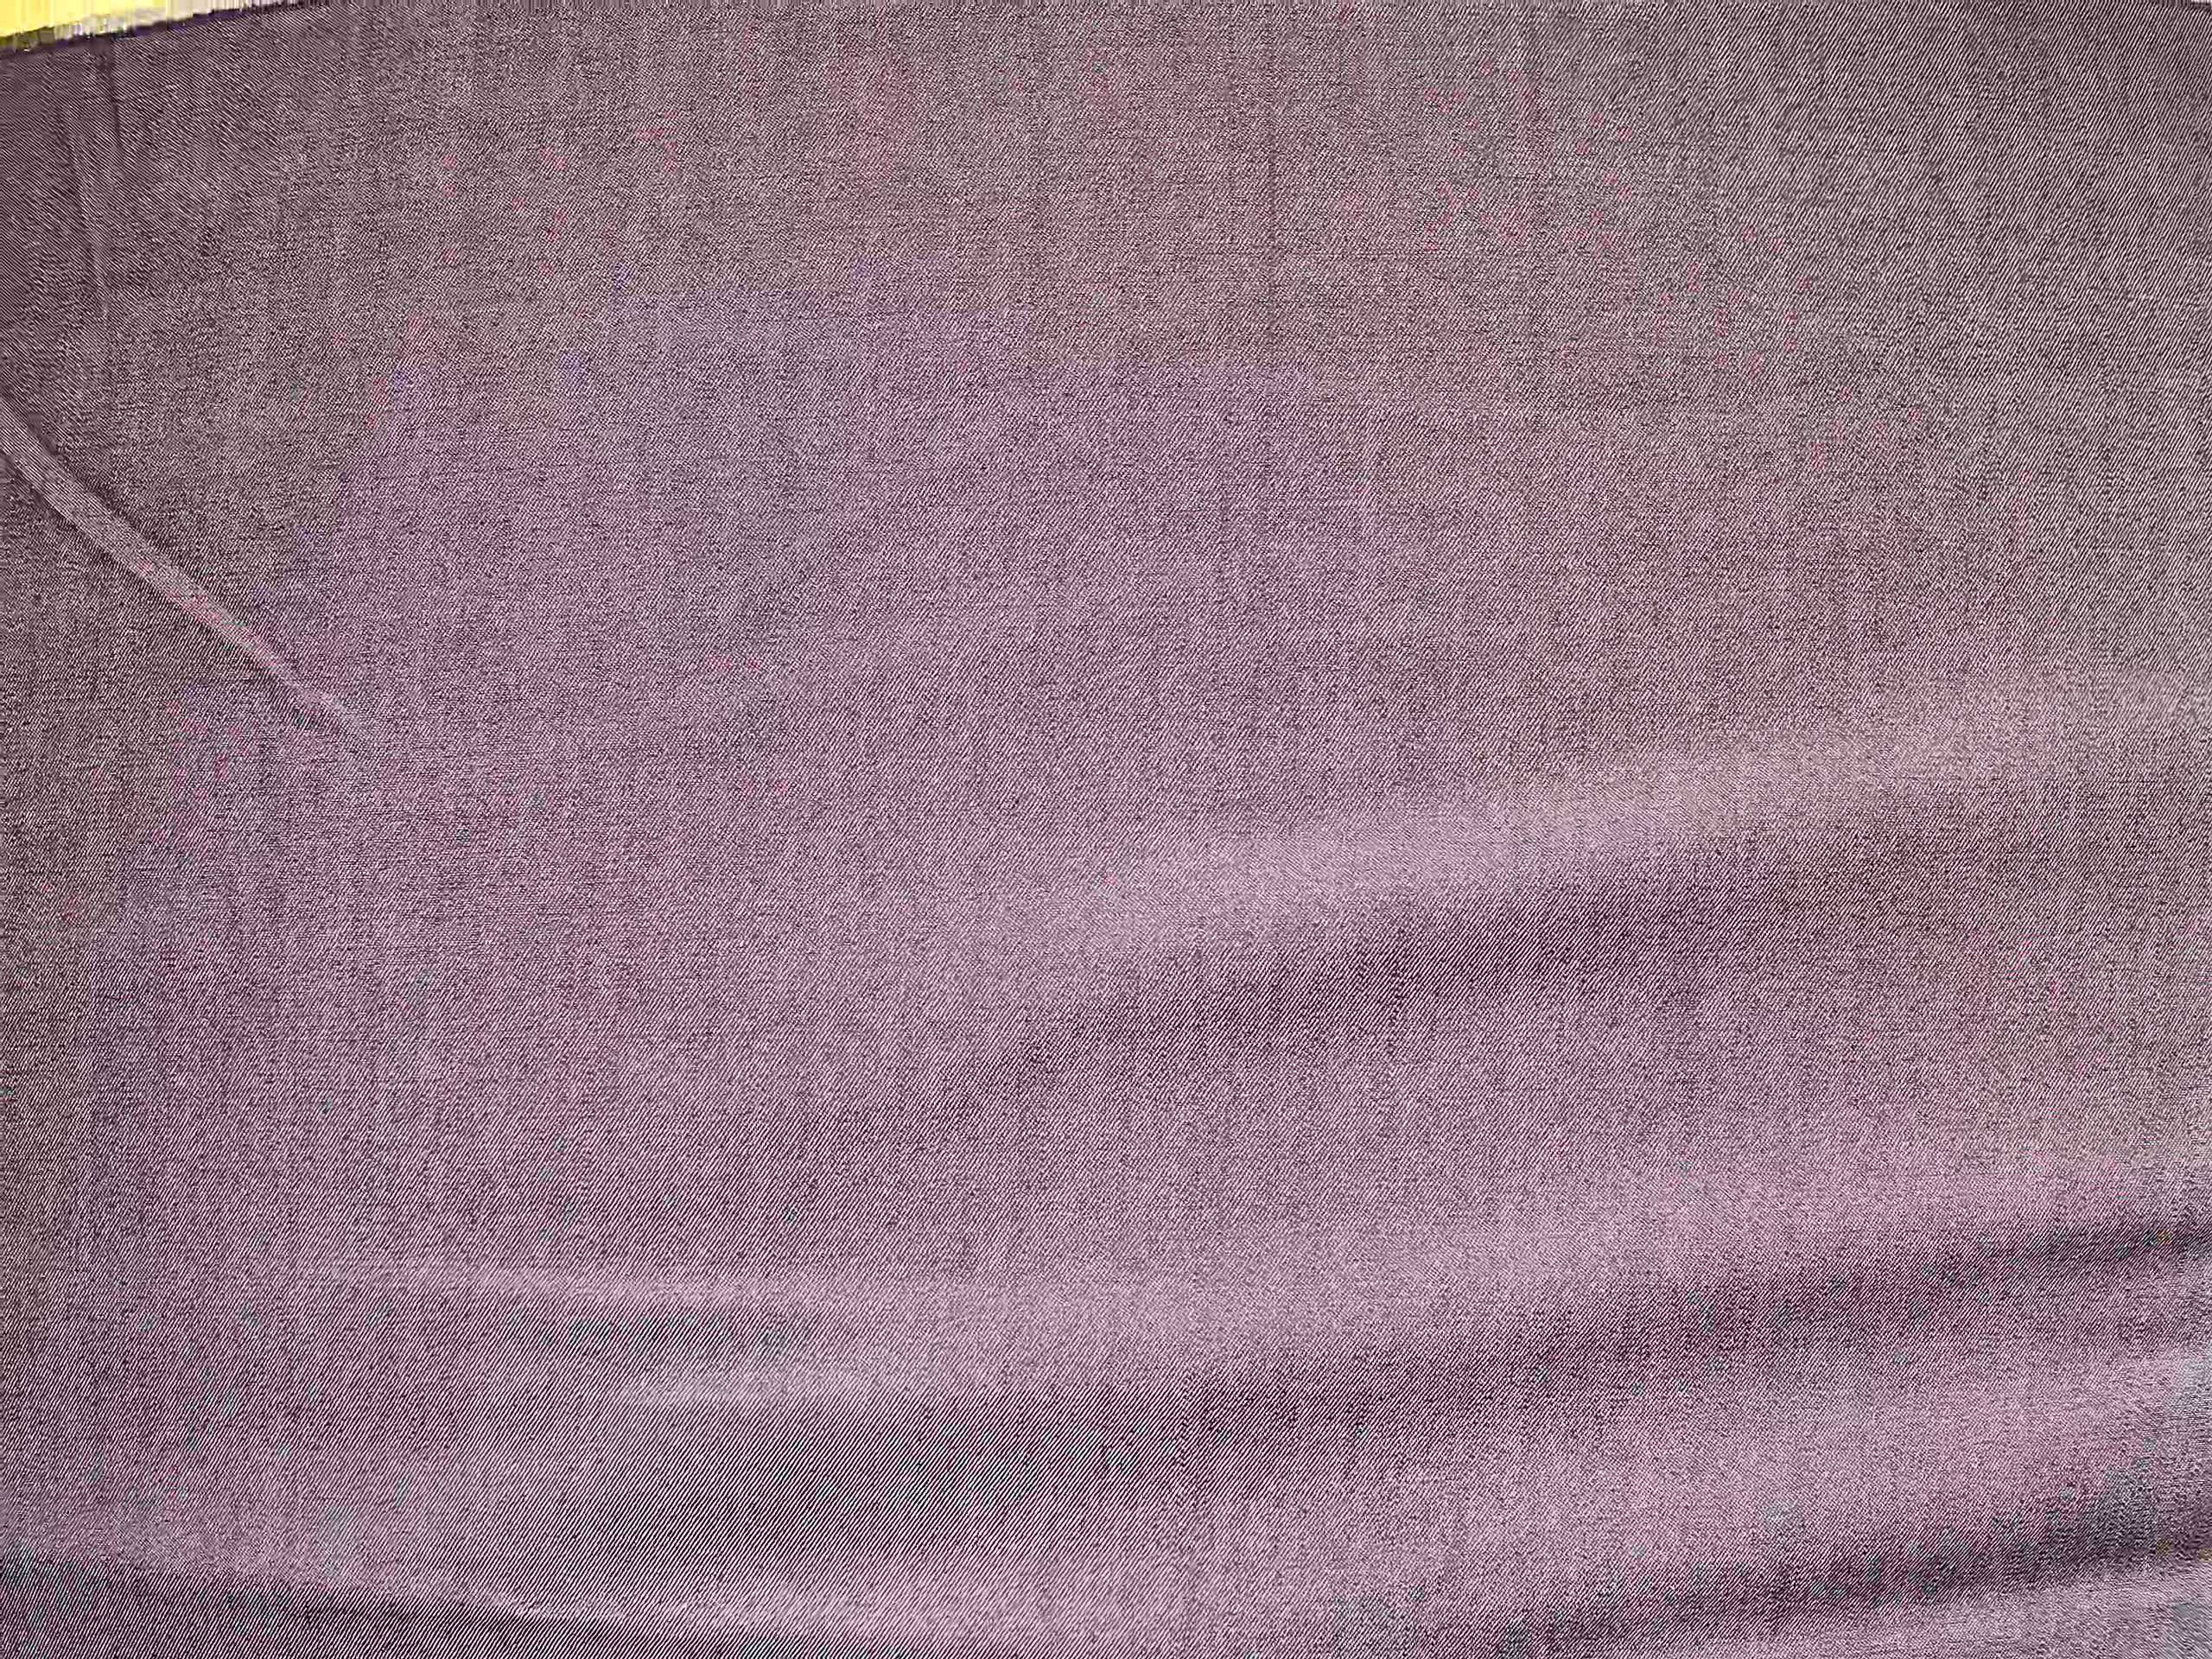hanging-warp: (1245, 12, 1305, 631)
